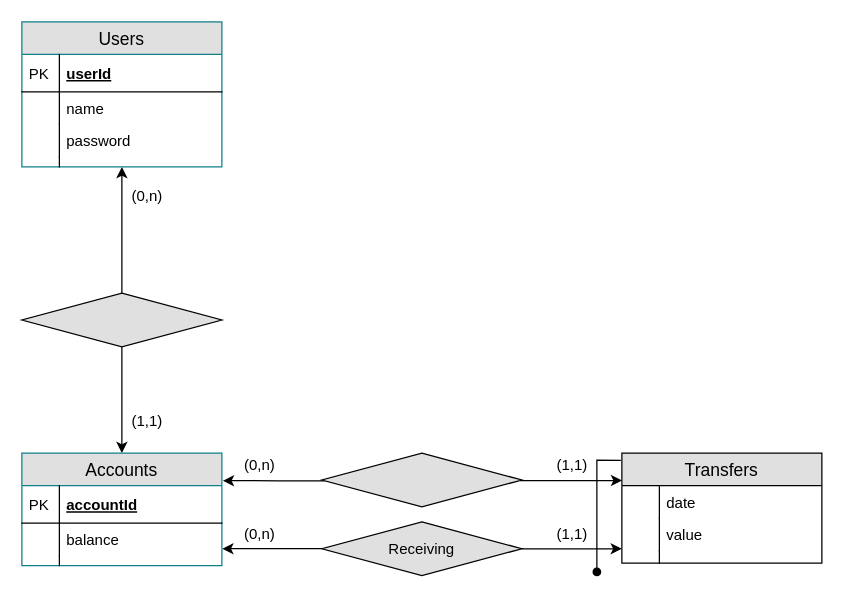
Image size: 844x604. Some labels were removed from this diagram. Each missing label, with the centre of its shape:
"Giving" belongs at pixel 421 479.
"Owning" belongs at pixel 121 319.
